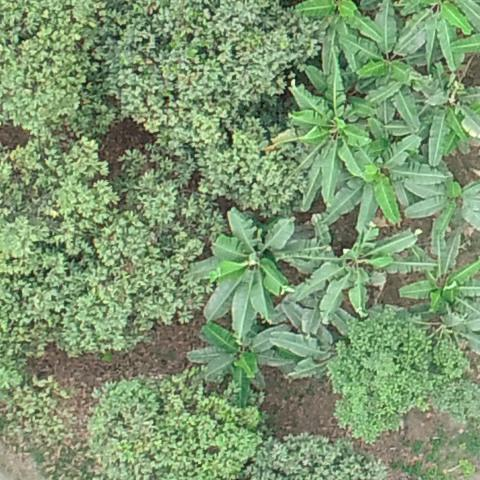Banana-plant: (271, 33, 394, 217), (187, 203, 301, 341), (294, 214, 437, 322), (317, 125, 450, 227), (185, 318, 303, 415), (345, 3, 429, 133), (393, 225, 480, 331), (399, 62, 480, 166), (267, 295, 350, 380), (296, 0, 383, 79), (400, 162, 480, 240)
